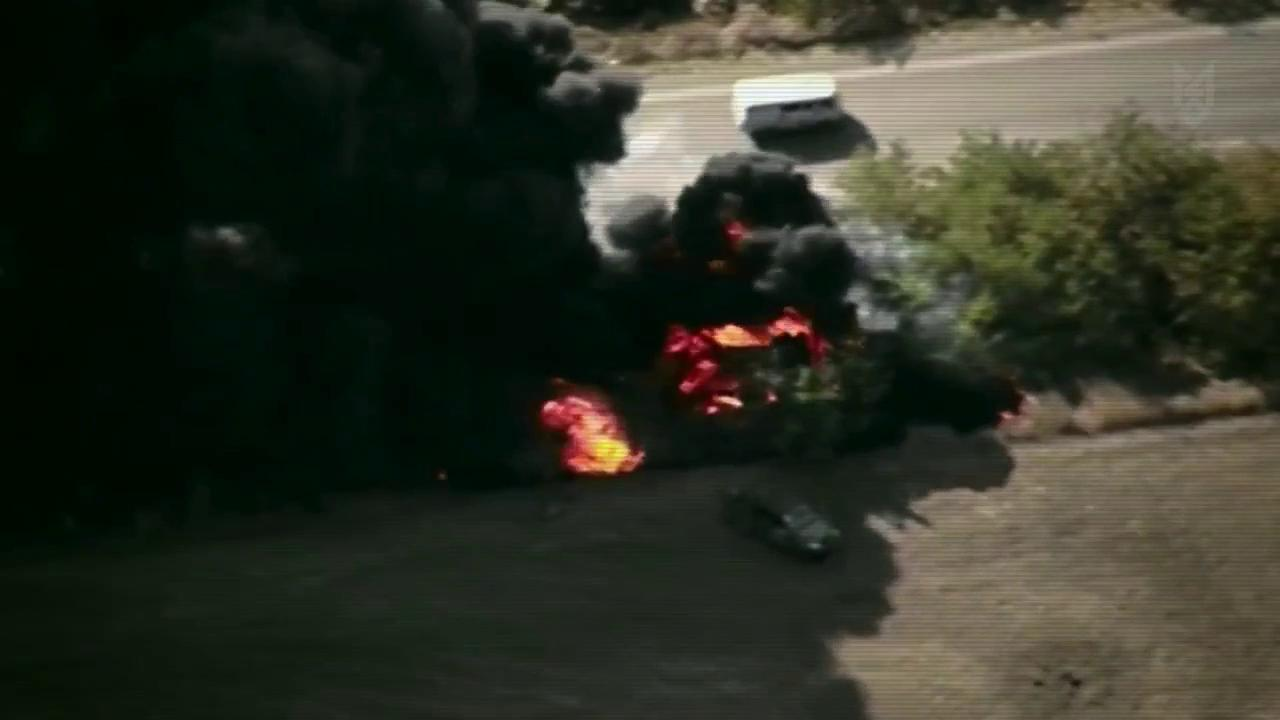tank: (710, 477, 851, 563)
